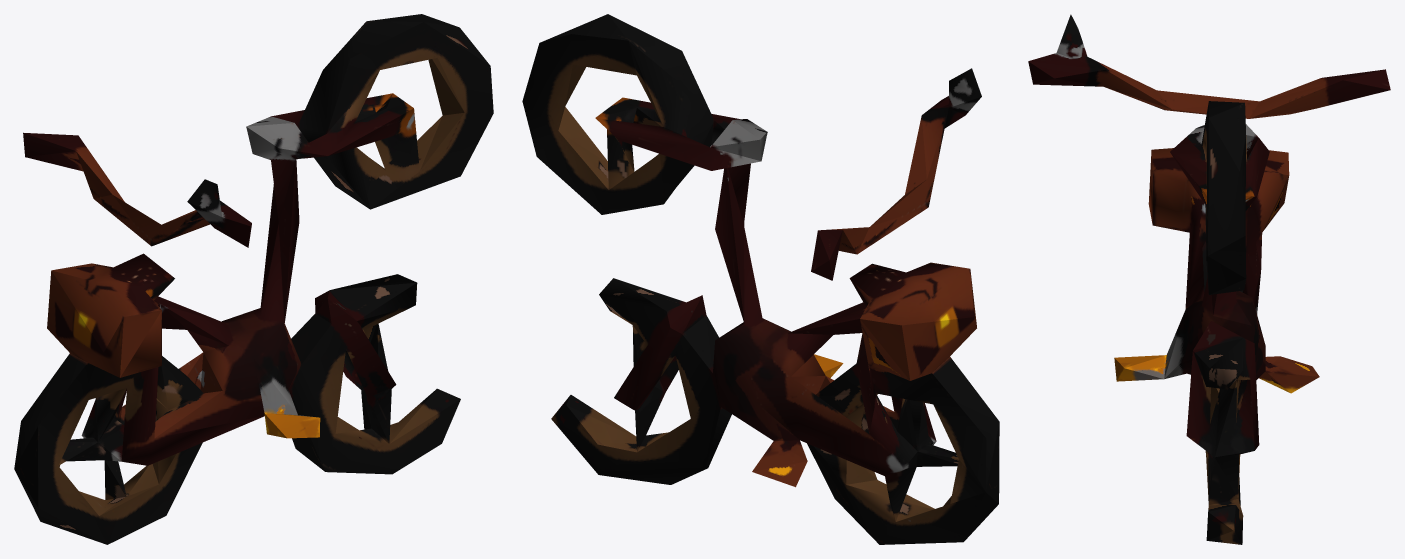
Rendered from hawkins-bike.glb.
3 views of the same model, side by side, from view 1: azimuth 30°, elevation 25°; view 2: azimuth 150°, elevation 25°; view 3: azimuth 270°, elevation 25° (orthographic). The views are drawn at different scales.
Visible parts, largest first — view 1: geometry_0.001; view 2: geometry_0.001; view 3: geometry_0.001.
Part boxes in pixels (<box>): geometry_0.001: <box>14,14,493,544</box>; geometry_0.001: <box>522,14,999,544</box>; geometry_0.001: <box>1028,14,1390,544</box>.
Bounding box in the file's own units: 0.992 × 0.9156 × 0.6925.
Materials: 1 (1 with a texture image).
